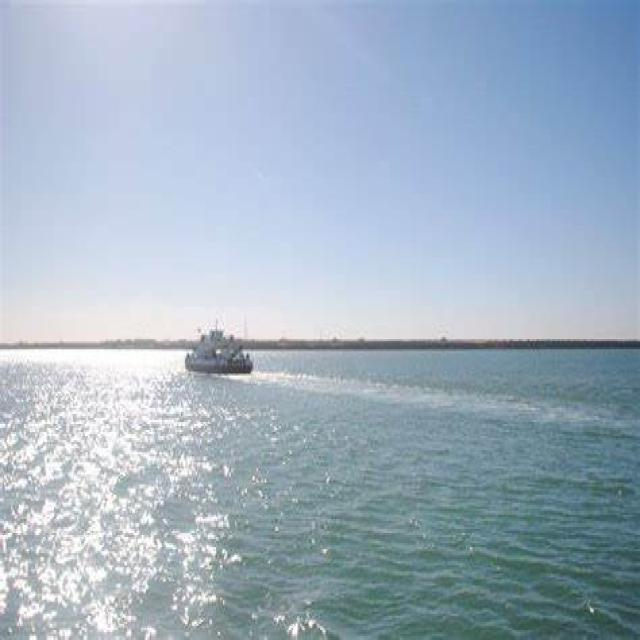houseboat: (183, 316, 250, 374)
